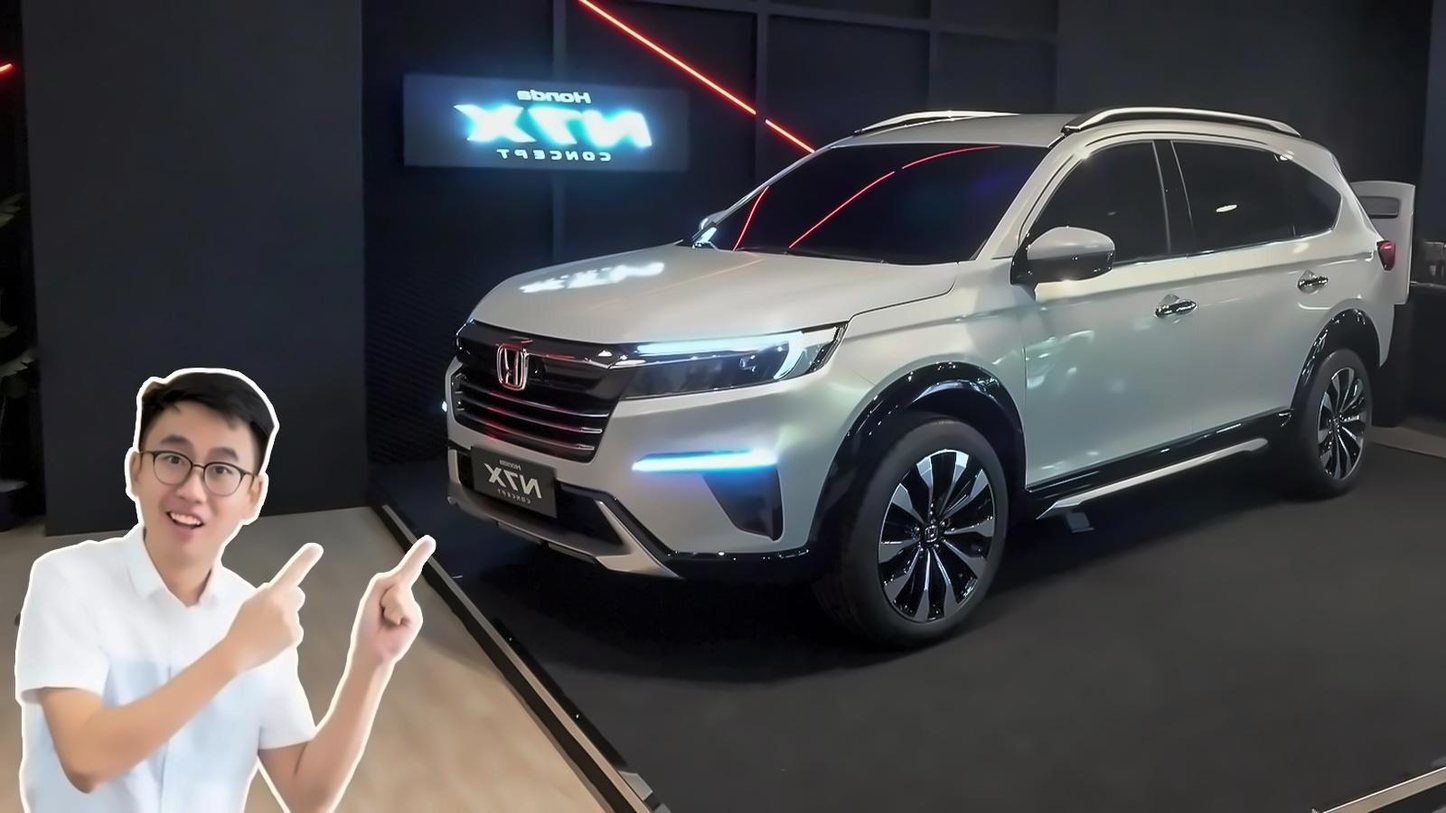Car hood: (468, 240, 981, 364)
Fender - -F-L-: (826, 256, 1037, 459)
Fender - -R-L-: (1306, 163, 1391, 384)
Front bumper: (438, 345, 880, 579)
Headlight - -L-: (616, 320, 854, 405)
Passenger-s door - -F-L-: (991, 93, 1201, 532)
Passenger-s door - -R-L-: (1152, 85, 1352, 493)
Side bumper - -L-: (1014, 392, 1302, 568)
Side mirror - -L-: (1008, 222, 1120, 309)
